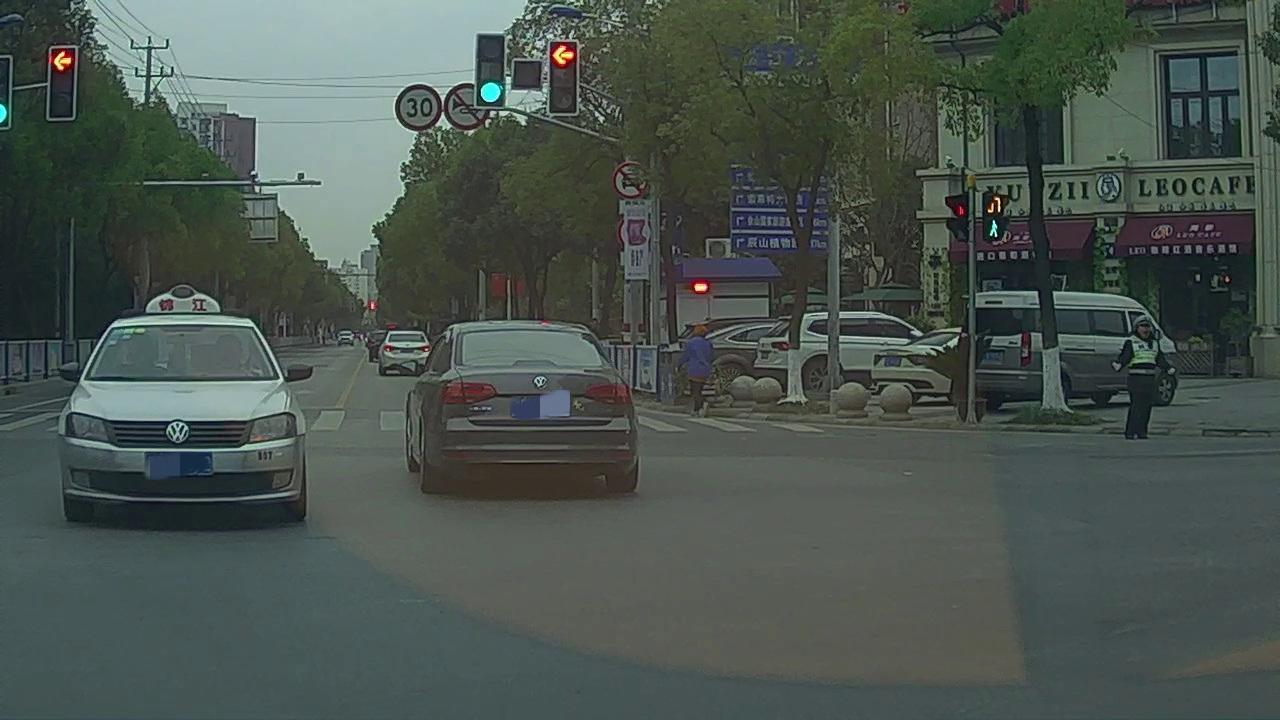traffic_light: (477, 34, 507, 108), (552, 42, 579, 117), (53, 46, 75, 118)
